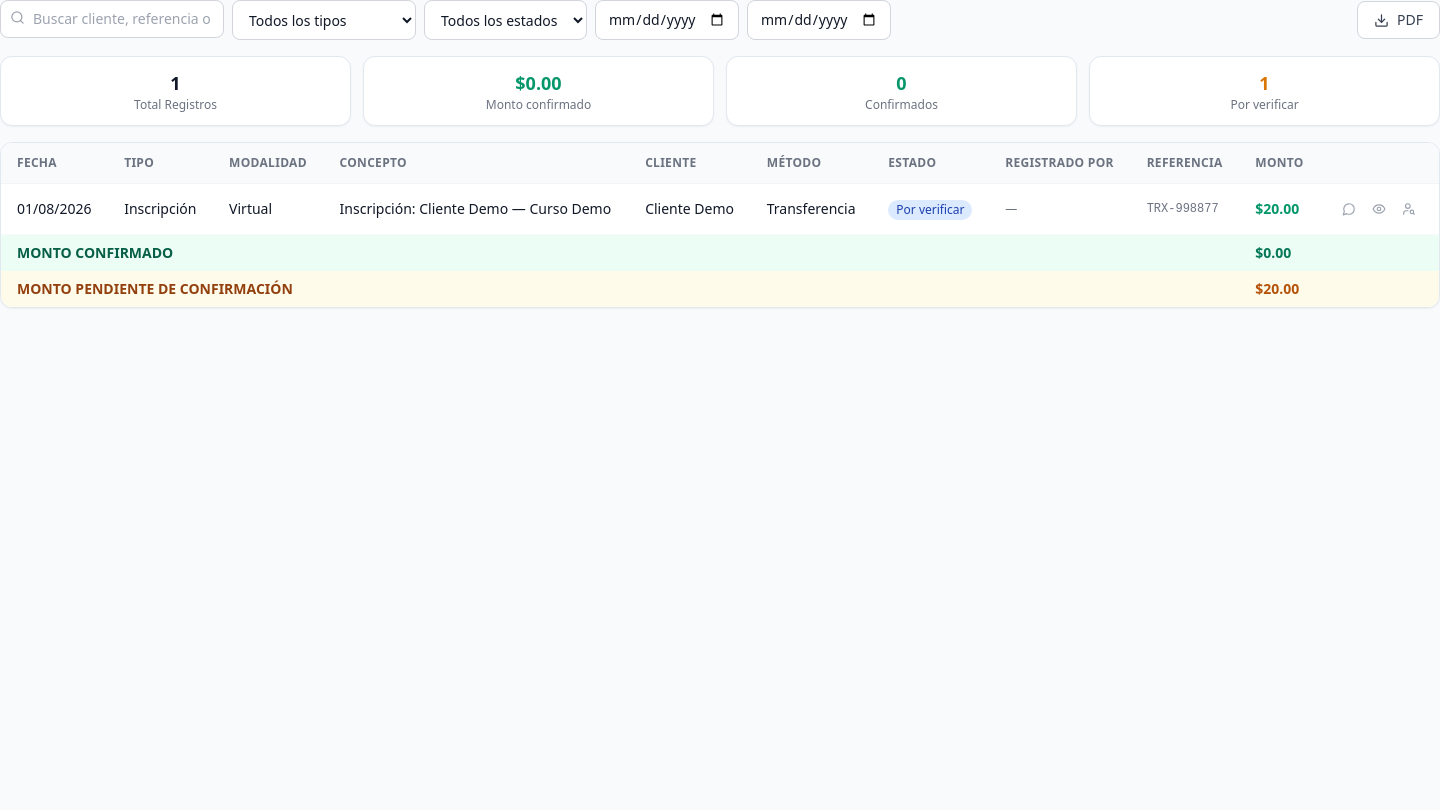
Test: IngresosList — trazabilidad hacia la inscripción de origen › verificar un ingreso vinculado confirma el pago y aclara que la factura es independiente
Expected: the text "Cliente Demo" is shown, [629,184,751,234]
Click the button titled "Verificar pago pendiente" at (1379, 209), box [1366,196,1392,222]
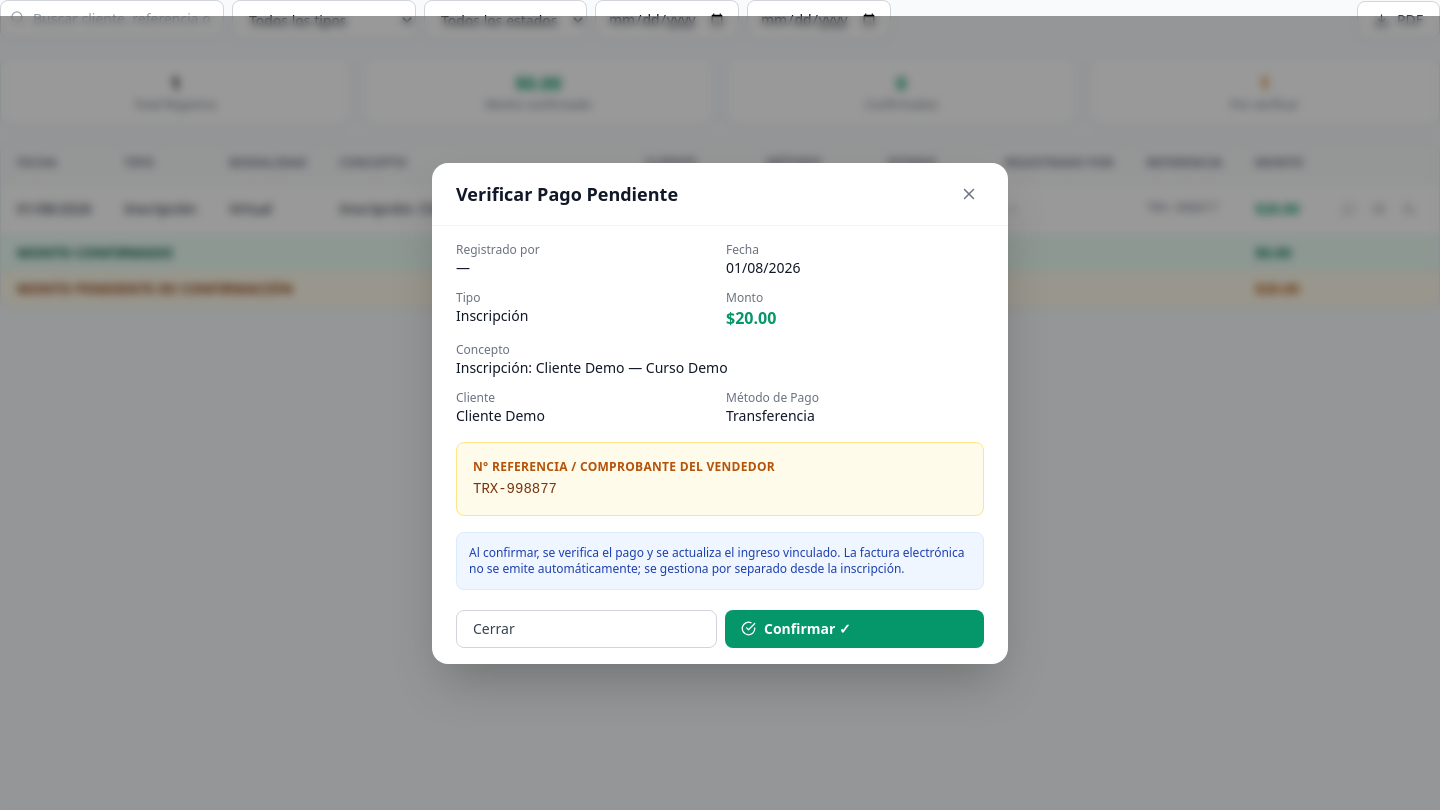
Expected: the text "La factura electrónica no se emite automáticamente" is shown, [469,544,964,576]
Click the button "Confirmar ✓" at (854, 628), box [725,610,984,648]
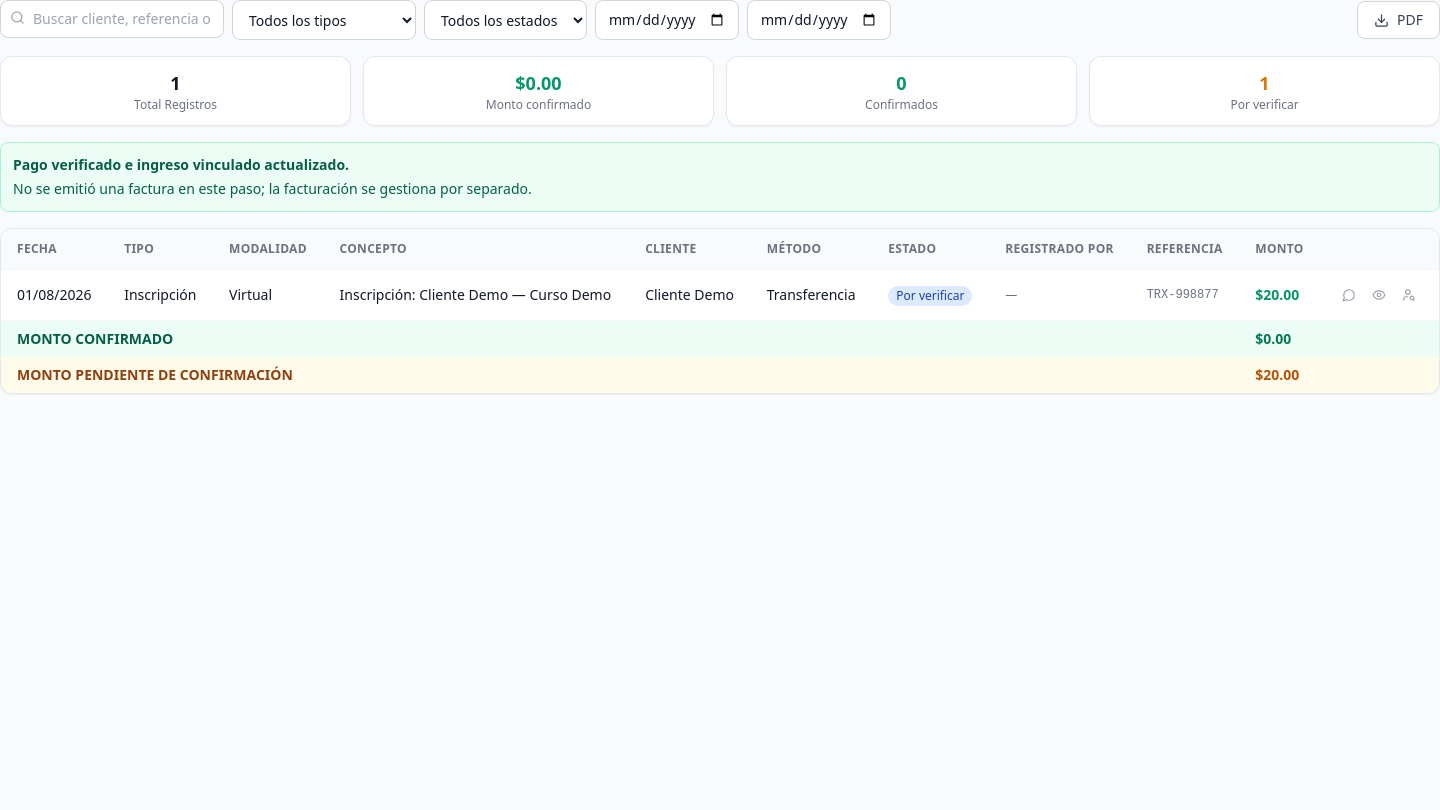
Expected: the text "Pago verificado e ingreso vinculado actualizado." is shown, [13,155,349,174]
Expected: the text "No se emitió una factura en este paso" is shown, [13,179,532,198]
